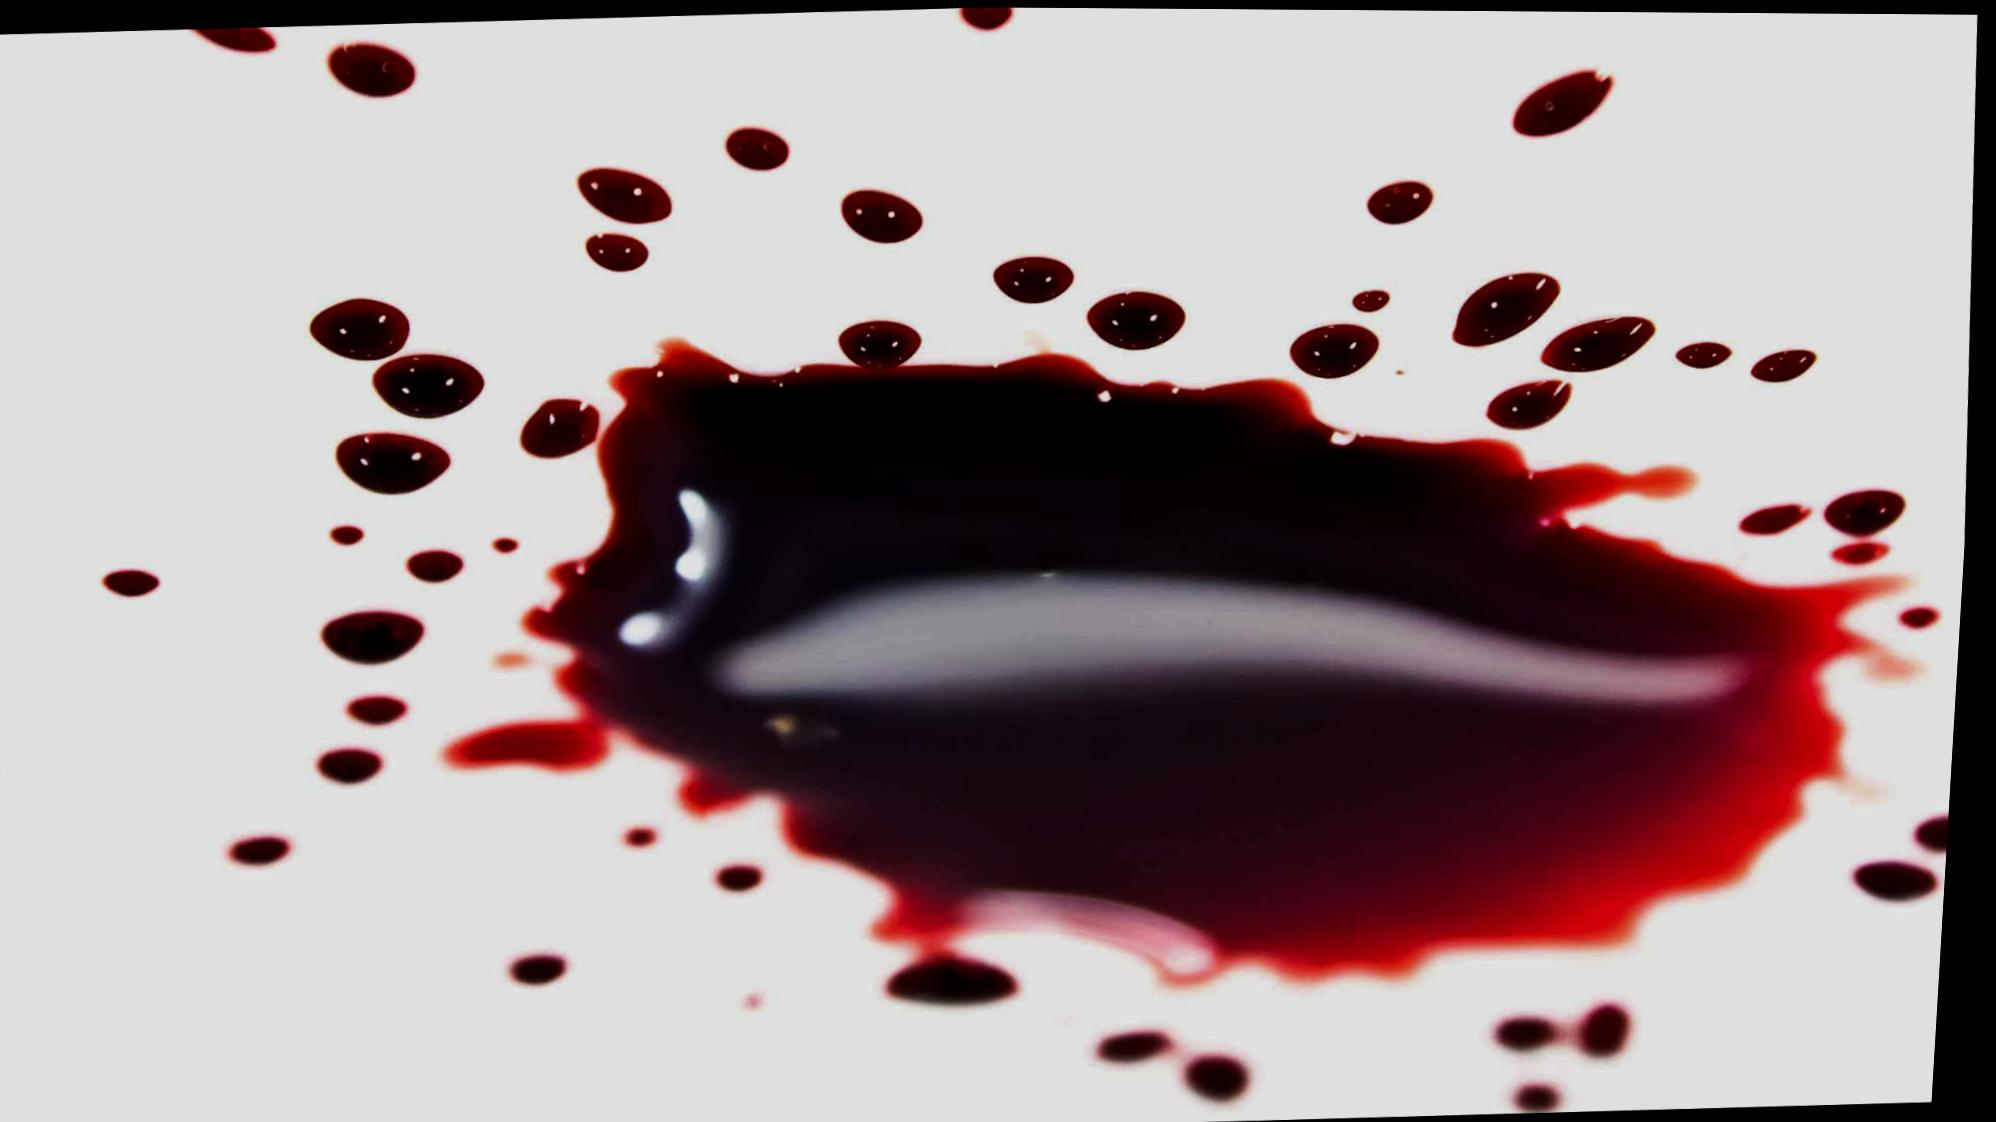Fire: (541, 322, 1853, 1007), (313, 298, 488, 420), (454, 719, 617, 774), (1459, 272, 1564, 344), (339, 433, 454, 495), (1836, 487, 1912, 565), (1550, 315, 1659, 370), (1093, 291, 1189, 350), (1519, 69, 1604, 133), (328, 613, 429, 667), (580, 167, 673, 222), (326, 43, 414, 97), (1297, 324, 1383, 377), (843, 188, 924, 243), (528, 403, 602, 457), (1494, 380, 1577, 427), (998, 255, 1078, 303), (1869, 860, 1954, 903), (1197, 1056, 1264, 1106), (727, 126, 790, 170), (1371, 180, 1435, 222), (1511, 1018, 1581, 1056), (1113, 1033, 1189, 1066), (588, 232, 650, 272), (326, 750, 389, 786), (518, 955, 581, 990), (1600, 1010, 1644, 1056), (192, 27, 273, 52), (236, 838, 297, 868), (1752, 503, 1814, 534), (355, 698, 414, 728), (1759, 348, 1821, 377), (106, 572, 165, 599), (414, 556, 466, 583), (724, 866, 772, 894), (1530, 1086, 1578, 1111), (960, 5, 1012, 27), (1686, 343, 1731, 366), (1930, 817, 1959, 852), (1357, 288, 1396, 313), (1910, 606, 1951, 628), (333, 527, 367, 546), (636, 831, 664, 849), (498, 539, 524, 554)
